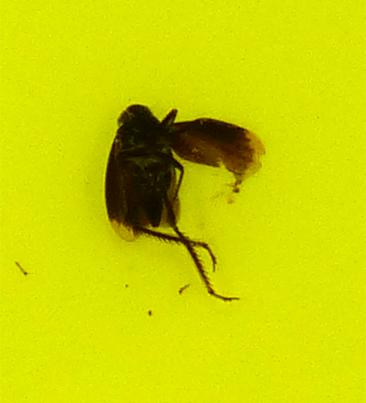Hemiptera: (100, 100, 266, 303)
